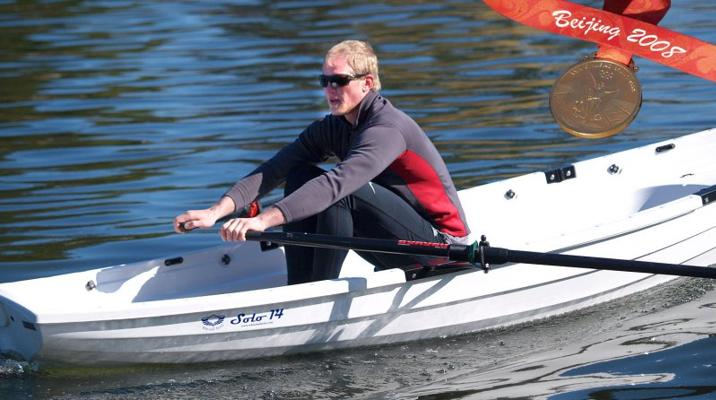person: (166, 39, 473, 288)
